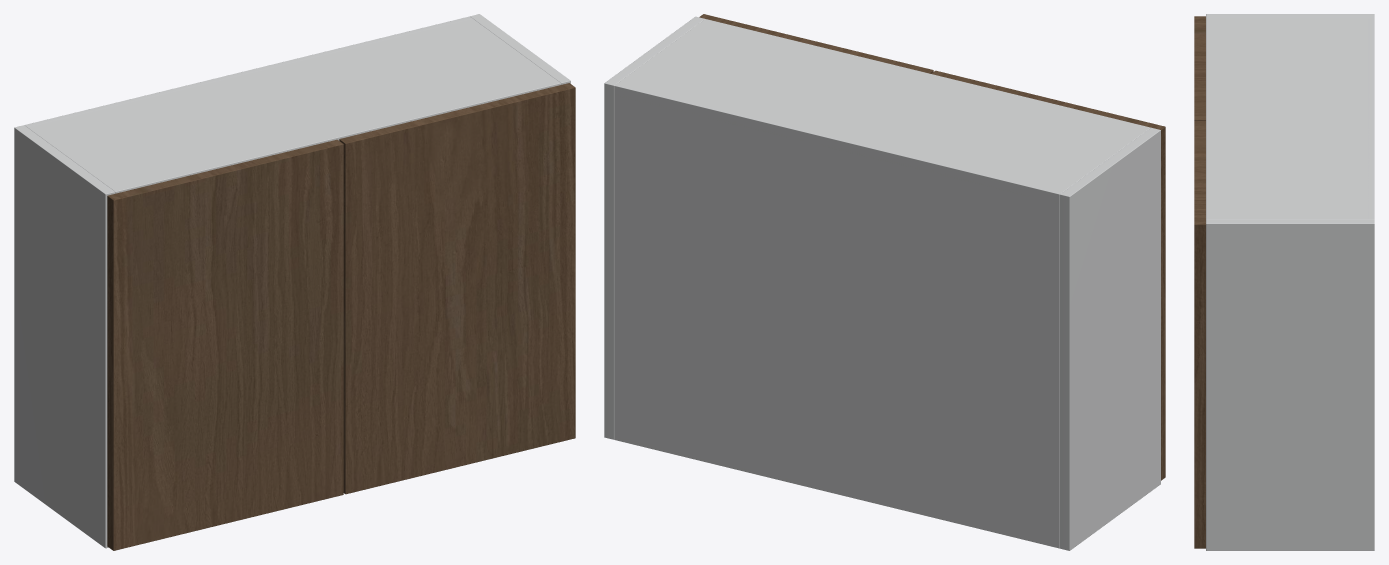
Rendered from oppein-ply-mso-w3324.glb.
The picture shows the model from 3 angles, left to right: view 1: azimuth 30°, elevation 25°; view 2: azimuth 150°, elevation 25°; view 3: azimuth 270°, elevation 25°; orthographic projection. The views are drawn at different scales.
Visible parts, largest first — view 1: Door, Door.001, Cabinet top, Cabinet side, Cabinet back, Cabinet side.001; view 2: Cabinet back, Cabinet top, Cabinet side, Cabinet side.001, Door, Door.001; view 3: Cabinet side.001, Cabinet top, Door.001, Cabinet back, Door, Cabinet side.
Part boxes in pixels (x1,y1,x2,y2): Door: [107, 139, 343, 550]; Door.001: [339, 83, 575, 494]; Cabinet top: [28, 16, 560, 193]; Cabinet side: [14, 125, 115, 548]; Cabinet back: [24, 16, 472, 127]; Cabinet side.001: [470, 14, 570, 84]; Cabinet back: [614, 83, 1062, 548]; Cabinet top: [614, 19, 1150, 203]; Cabinet side: [1060, 127, 1160, 550]; Cabinet side.001: [604, 16, 704, 439]; Door: [931, 70, 1165, 480]; Door.001: [699, 14, 933, 73]; Cabinet side.001: [1206, 219, 1374, 550]; Cabinet top: [1206, 18, 1374, 219]; Door.001: [1194, 121, 1205, 548]; Cabinet back: [1368, 18, 1374, 219]; Door: [1194, 16, 1205, 120]; Cabinet side: [1206, 14, 1374, 18].
Bounding box in the file's own units: 0.8382 × 0.6096 × 0.3048.
Materials: 2 (1 with a texture image).
